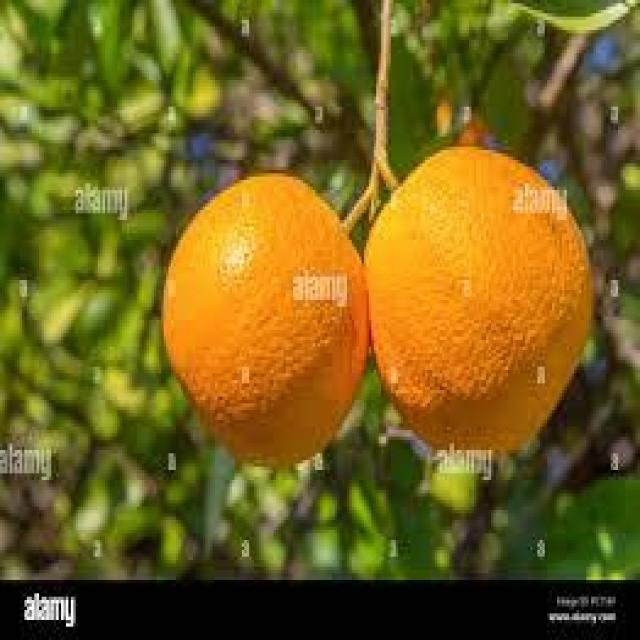fruit: (364, 143, 594, 455), (161, 172, 371, 463)
